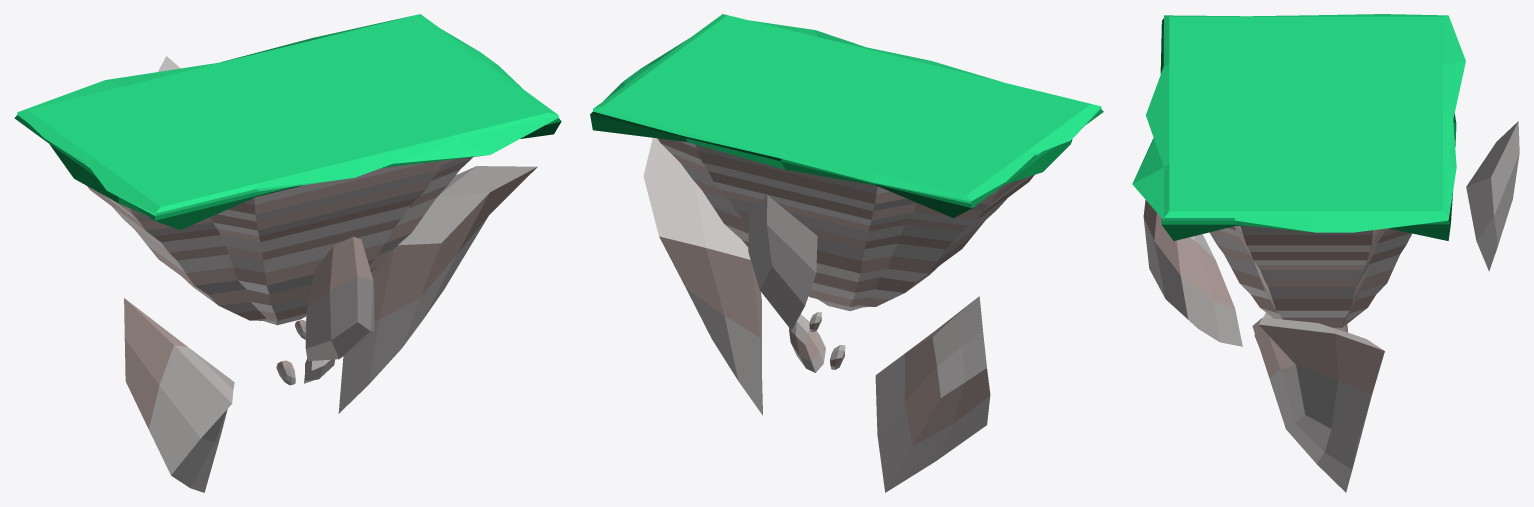
The model's file is Floating Islands Large 2.fbx.
3 views of the same model, side by side, from view 1: azimuth 30°, elevation 25°; view 2: azimuth 150°, elevation 25°; view 3: azimuth 270°, elevation 25° (orthographic). The views are drawn at different scales.
Parts seen in each view (by area): view 1: FloatingIslandLarge; view 2: FloatingIslandLarge; view 3: FloatingIslandLarge.
Boxes of the visible parts, x1=… form: FloatingIslandLarge: x1=14, y1=14, x2=561, y2=492; FloatingIslandLarge: x1=590, y1=14, x2=1103, y2=492; FloatingIslandLarge: x1=1132, y1=14, x2=1519, y2=492.
Size of the model in its own units: 3232 by 2694 by 2404.
